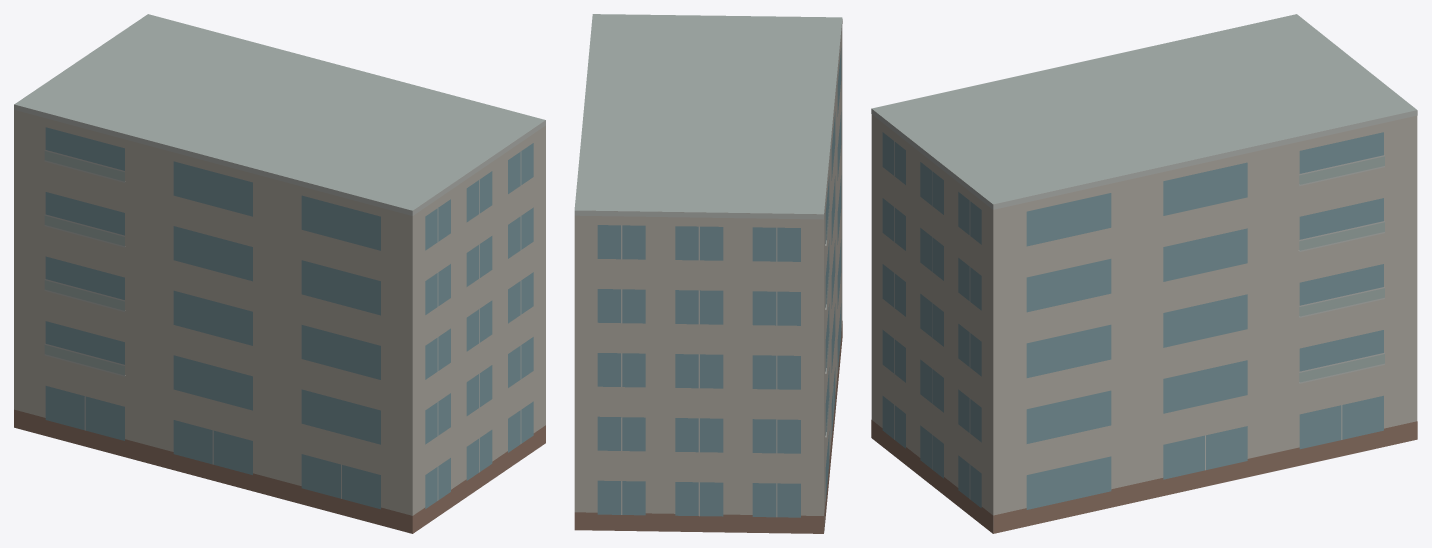
Rendered from survey-upis-33008635.glb.
3 renders of one model, left to right at view 1: azimuth 30°, elevation 25°; view 2: azimuth 150°, elevation 25°; view 3: azimuth 270°, elevation 25°, orthographic. The views are drawn at different scales.
Parts seen in each view (by area): view 1: survey-upis-33008635.tmp; view 2: survey-upis-33008635.tmp; view 3: survey-upis-33008635.tmp.
Boxes of the visible parts, x1,y1,x2,y2 form: survey-upis-33008635.tmp: [14, 14, 545, 533]; survey-upis-33008635.tmp: [574, 14, 842, 533]; survey-upis-33008635.tmp: [871, 14, 1417, 533].
Bounding box in the file's own units: 18.36 × 14.8 × 22.24.
